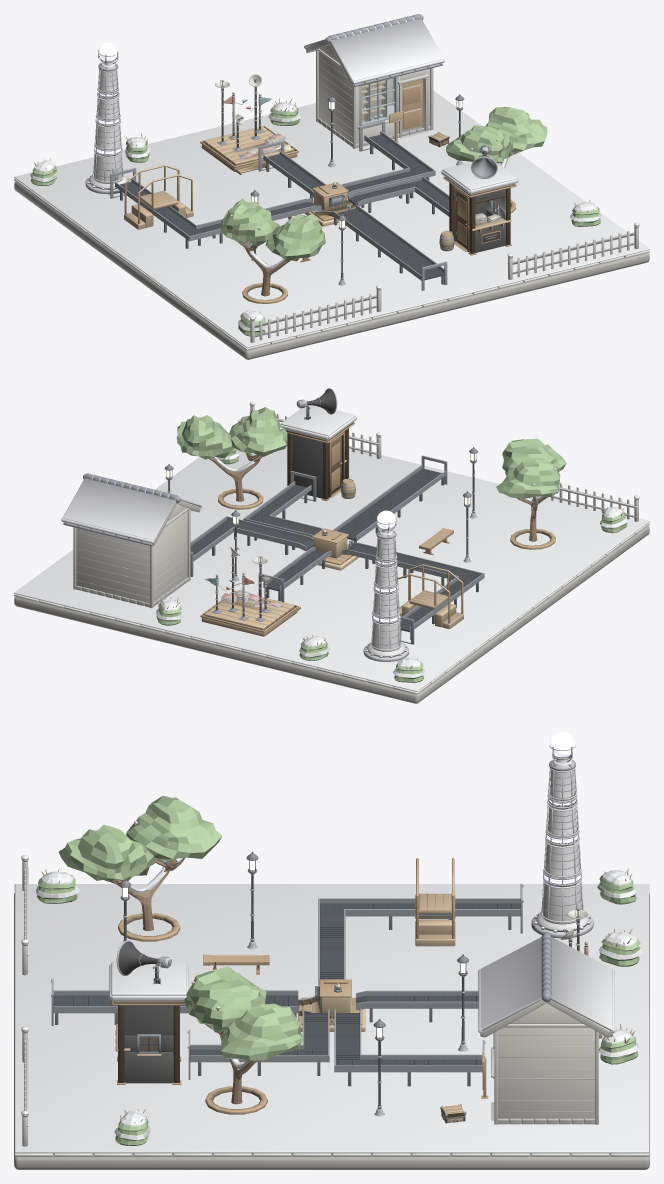
The model's file is press.glb.
The picture shows the model from 3 angles, top to bottom: view 1: azimuth 30°, elevation 25°; view 2: azimuth 150°, elevation 25°; view 3: azimuth 270°, elevation 25°; orthographic projection. The views are drawn at different scales.
Visible parts, largest first — view 1: Snow_ground.press, Ground_base.press, Snow_roof_ToolLib, Obj_Broadcast, Foliage_PRtree_SW, Foliage_PRtree_E, Obj_AITower, Obj_NewsDesk, Fence_south.press, Belt_Main_press, Belt_Sub_AITower, Panel_ToolLib_wall_00 (+13 smaller); view 2: Snow_ground.press, Ground_base.press, Snow_roof_ToolLib, Panel_ToolLib_wall_02, Foliage_PRtree_E, Obj_Broadcast, Obj_AITower, Foliage_PRtree_SW, Obj_NewsDesk, Belt_Sub_AITower, Belt_Main_press, Panel_ToolLib_wall_00 (+13 smaller); view 3: Snow_ground.press, Ground_base.press, Panel_ToolLib_wall_01, Snow_roof_ToolLib, Foliage_PRtree_SW, Foliage_PRtree_E, Obj_Broadcast, Obj_AITower, Belt_Sub_AITower, Belt_Sub_ToolLib, Snow_roof_Broadcast, Belt_Sub_Broadcast (+15 smaller).
Boxes of the visible parts, left/top/right/bottom form: Snow_ground.press: left=14, top=90, right=649, bottom=347; Ground_base.press: left=14, top=181, right=649, bottom=359; Snow_roof_ToolLib: left=304, top=16, right=444, bottom=84; Obj_Broadcast: left=443, top=145, right=516, bottom=255; Foliage_PRtree_SW: left=220, top=198, right=325, bottom=277; Foliage_PRtree_E: left=446, top=106, right=547, bottom=167; Obj_AITower: left=85, top=42, right=130, bottom=194; Obj_NewsDesk: left=200, top=74, right=298, bottom=174; Fence_south.press: left=250, top=222, right=639, bottom=342; Belt_Main_press: left=332, top=204, right=444, bottom=284; Belt_Sub_AITower: left=115, top=178, right=315, bottom=248; Panel_ToolLib_wall_00: left=318, top=50, right=352, bottom=142; Snow_ground.press: left=14, top=436, right=649, bottom=691; Ground_base.press: left=14, top=525, right=649, bottom=703; Snow_roof_ToolLib: left=61, top=476, right=202, bottom=543; Panel_ToolLib_wall_02: left=76, top=528, right=149, bottom=605; Foliage_PRtree_E: left=176, top=407, right=287, bottom=480; Obj_Broadcast: left=286, top=388, right=354, bottom=501; Obj_AITower: left=363, top=510, right=408, bottom=661; Foliage_PRtree_SW: left=496, top=438, right=566, bottom=522; Obj_NewsDesk: left=200, top=546, right=300, bottom=636; Belt_Sub_AITower: left=348, top=542, right=484, bottom=639; Belt_Main_press: left=332, top=465, right=446, bottom=542; Panel_ToolLib_wall_00: left=153, top=509, right=187, bottom=602; Snow_ground.press: left=14, top=884, right=649, bottom=1153; Ground_base.press: left=14, top=893, right=649, bottom=1169; Panel_ToolLib_wall_01: left=498, top=1024, right=594, bottom=1123; Snow_roof_ToolLib: left=478, top=937, right=614, bottom=1033; Foliage_PRtree_SW: left=58, top=795, right=221, bottom=904; Foliage_PRtree_E: left=184, top=966, right=302, bottom=1079; Obj_Broadcast: left=112, top=940, right=185, bottom=1084; Obj_AITower: left=531, top=732, right=593, bottom=938; Belt_Sub_AITower: left=318, top=898, right=520, bottom=982; Belt_Sub_ToolLib: left=334, top=1010, right=482, bottom=1086; Snow_roof_Broadcast: left=109, top=962, right=188, bottom=1000; Belt_Sub_Broadcast: left=190, top=1010, right=329, bottom=1075.
Bounding box in the file's own units: 16 × 5.87 × 16.
